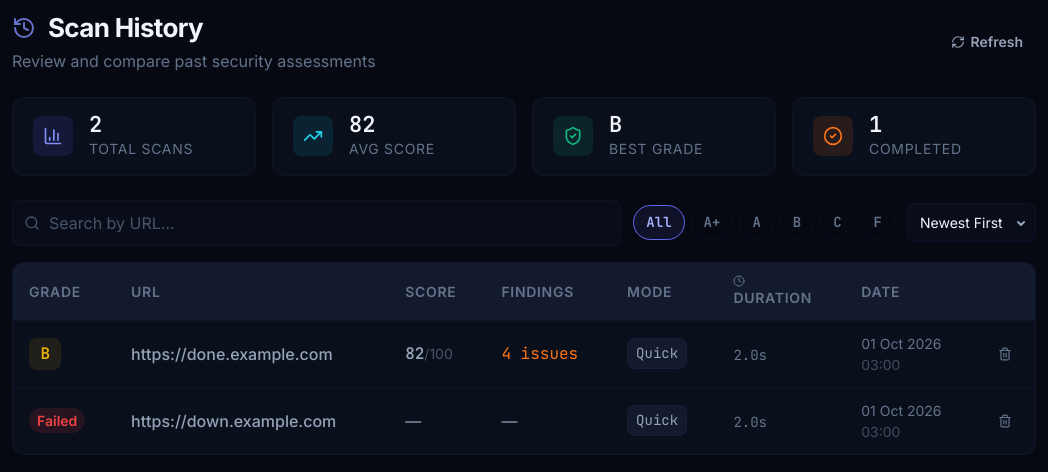
it: HistoryPage › shows a "no matching" state when a filter returns nothing
expect the text "https://done.example.com" is shown: met, box top-left (115, 320), bottom-right (389, 387)
Click the button "F": (878, 222) top-left (861, 205), bottom-right (895, 240)
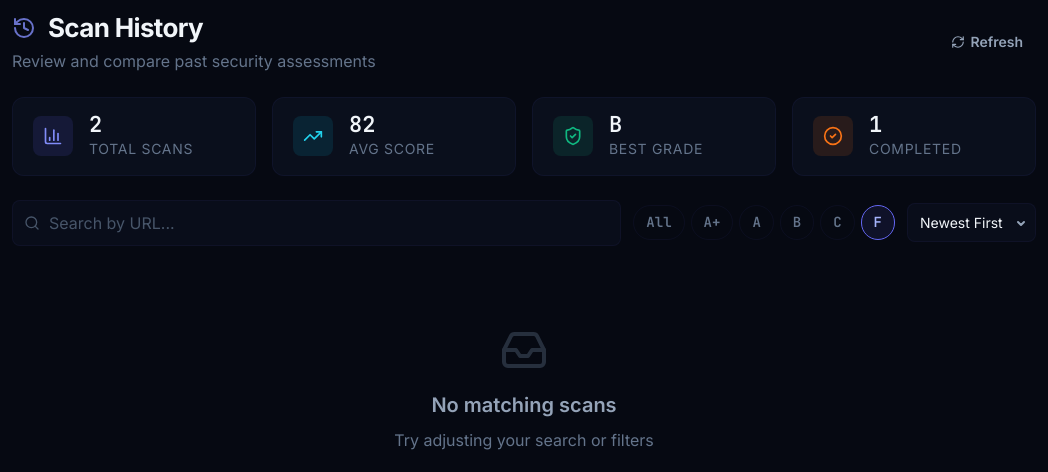
expect the text "No matching scans" is shown: met, box top-left (431, 392), bottom-right (617, 416)
